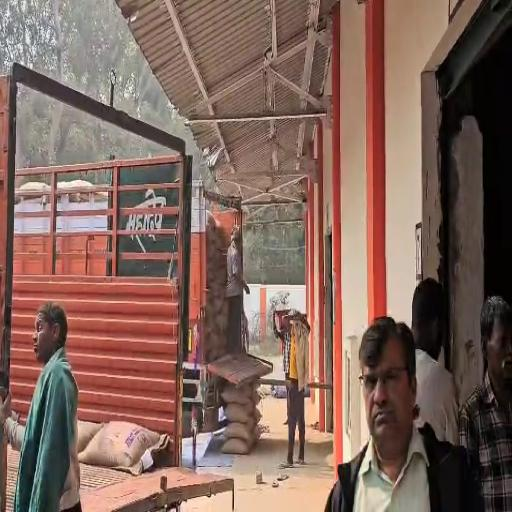bag: (80, 416, 172, 478)
